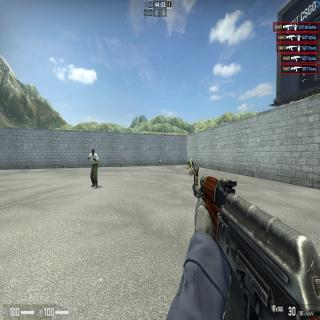T-Body: (90, 147, 98, 188)
T-Head: (91, 148, 95, 156)
